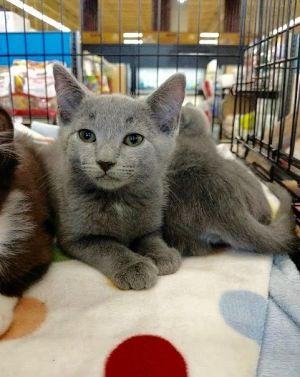rblue: (44, 54, 193, 208)
